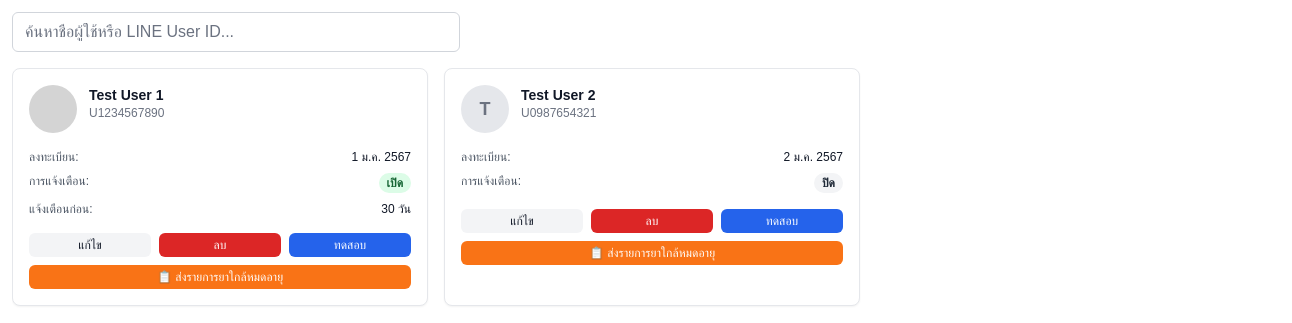
Test: LineUserList › Test Notification (Requirements 5.1, 5.3, 5.4) › should show success toast when test notification succeeds (Requirement 5.3)
Click the button "ทดสอบ" below "แจ้งเตือนก่อน:".
click(350, 245)  # box [289, 233, 411, 257]
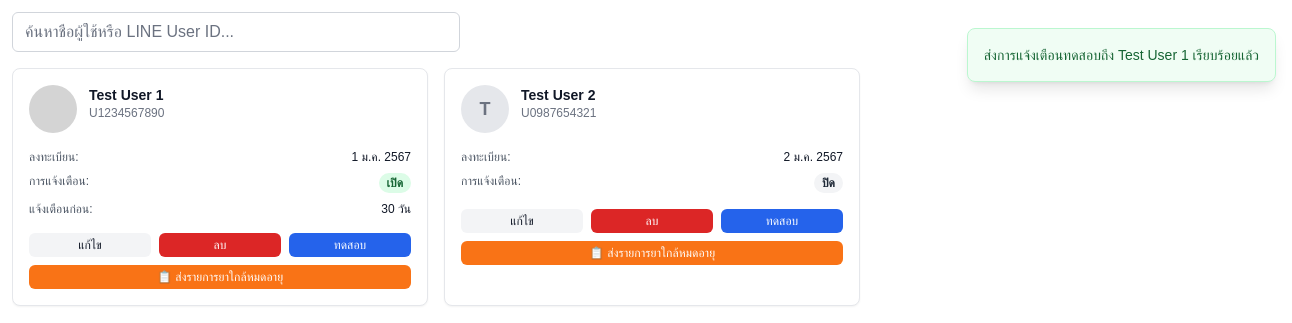
Now the text "ส่งการแจ้งเตือนทดสอบถึง Test User 1 เรียบร้อยแล้ว" is shown, box [984, 45, 1259, 65]
